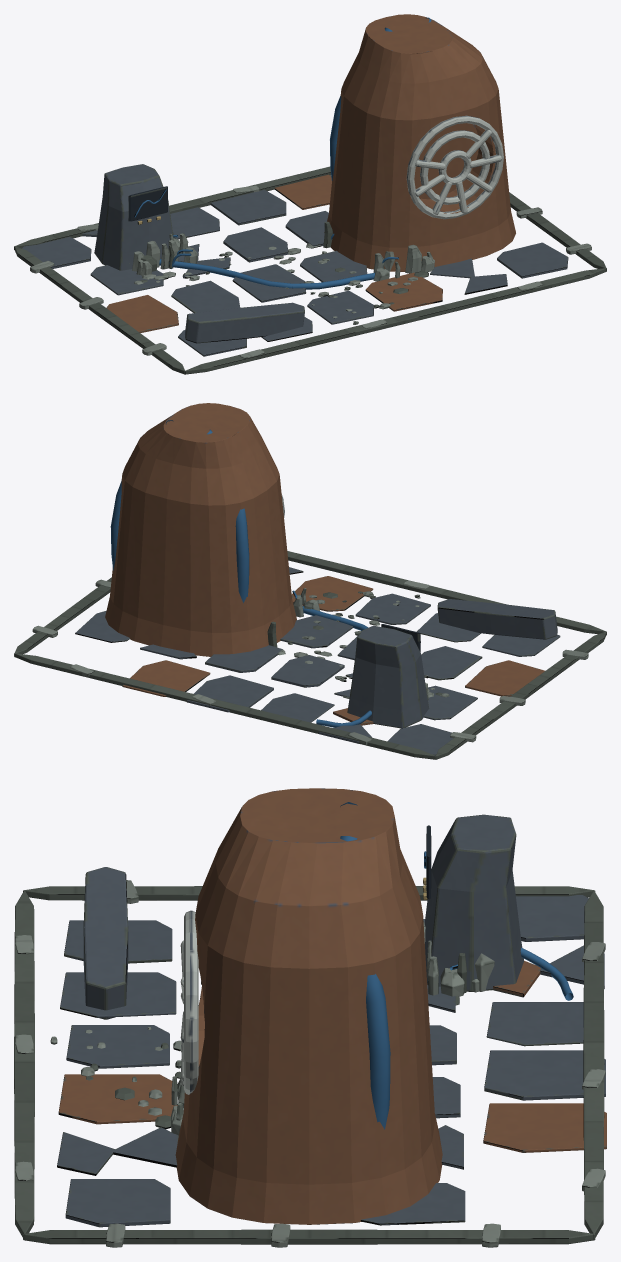
Rendered from industrial_wreck.glb.
The picture shows the model from 3 angles, top to bottom: view 1: azimuth 30°, elevation 25°; view 2: azimuth 150°, elevation 25°; view 3: azimuth 270°, elevation 25°; orthographic projection. The views are drawn at different scales.
Visible parts, largest first — view 1: GT_0131_industrial_wreck_Structure, GT_0131_industrial_wreck_GroundContact; view 2: GT_0131_industrial_wreck_Structure, GT_0131_industrial_wreck_GroundContact; view 3: GT_0131_industrial_wreck_Structure, GT_0131_industrial_wreck_GroundContact.
Part boxes in pixels (x1,y1,x2,y2): GT_0131_industrial_wreck_Structure: [94, 14, 515, 343]; GT_0131_industrial_wreck_GroundContact: [14, 166, 606, 374]; GT_0131_industrial_wreck_Structure: [105, 403, 557, 728]; GT_0131_industrial_wreck_GroundContact: [14, 551, 606, 759]; GT_0131_industrial_wreck_Structure: [83, 788, 573, 1224]; GT_0131_industrial_wreck_GroundContact: [14, 880, 606, 1247].
Bounding box in the file's own units: 10.54 × 4.72 × 7.29.
1 material, 1 textured.
